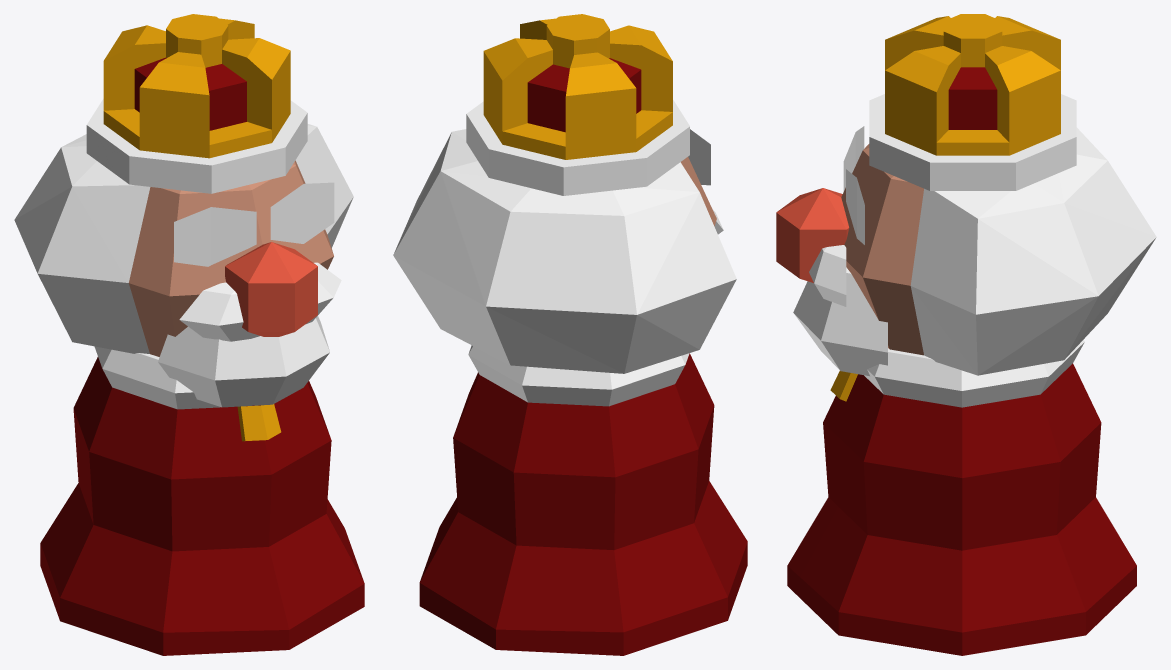
The model's file is Schiavone-King.fbx.
The picture shows the model from 3 angles, left to right: view 1: azimuth 30°, elevation 25°; view 2: azimuth 150°, elevation 25°; view 3: azimuth 270°, elevation 25°; orthographic projection.
Visible parts, largest first — view 1: head, body; view 2: head, body; view 3: head, body.
Boxes of the visible parts, x1,y1,x2,y2 form: head: (14,14,353,407); body: (40,346,364,655); head: (393,14,736,373); body: (419,345,747,655); head: (776,14,1156,376); body: (787,340,1136,655).
Size of the model in its own units: 53.49 by 55.31 by 89.75.
